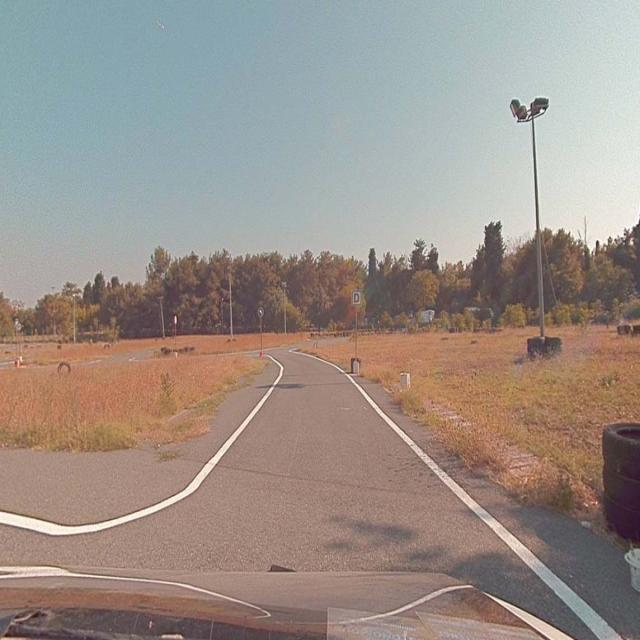durak: (351, 290, 362, 306)
sol: (258, 308, 264, 318)
